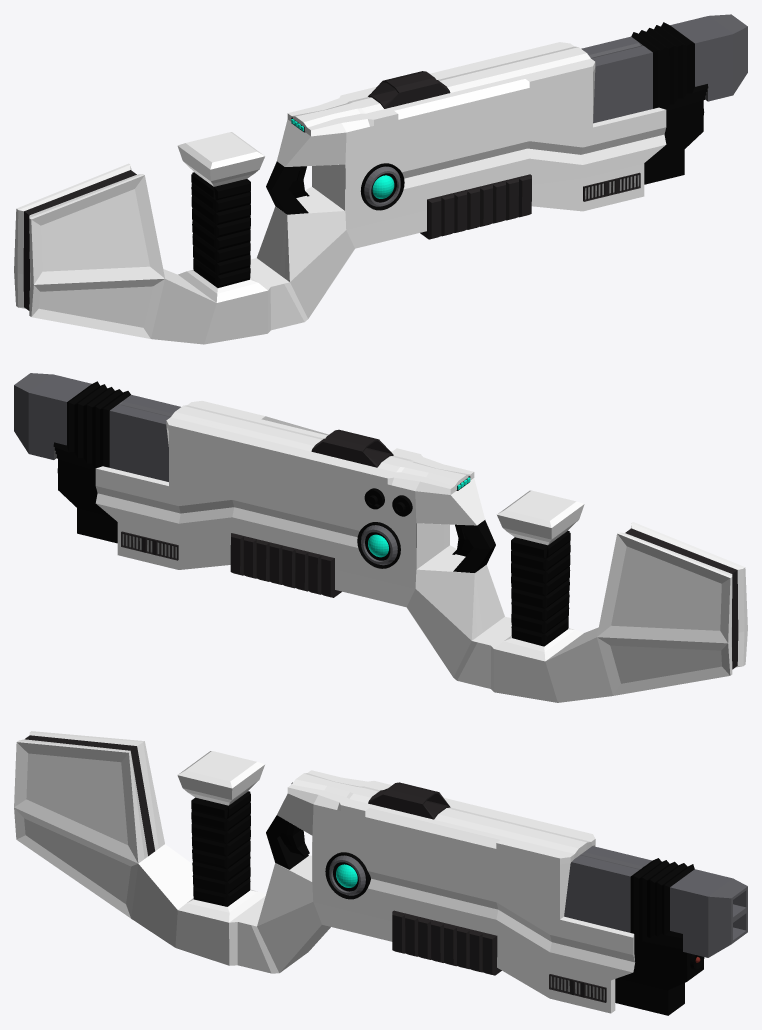
Rendered from machinegun Fagerone.fbx.
The picture shows the model from 3 angles, top to bottom: view 1: azimuth 30°, elevation 25°; view 2: azimuth 150°, elevation 25°; view 3: azimuth 330°, elevation 25°; orthographic projection.
Parts seen in each view (by area): view 1: Cube; view 2: Cube; view 3: Cube.
Part boxes in pixels (x1,y1,x2,y2): Cube: (14, 14, 747, 344); Cube: (14, 373, 747, 702); Cube: (14, 731, 747, 1015).
Size of the model in its own units: 6.04 by 1.62 by 0.6447.
Materials: 2 (2 with a texture image).
